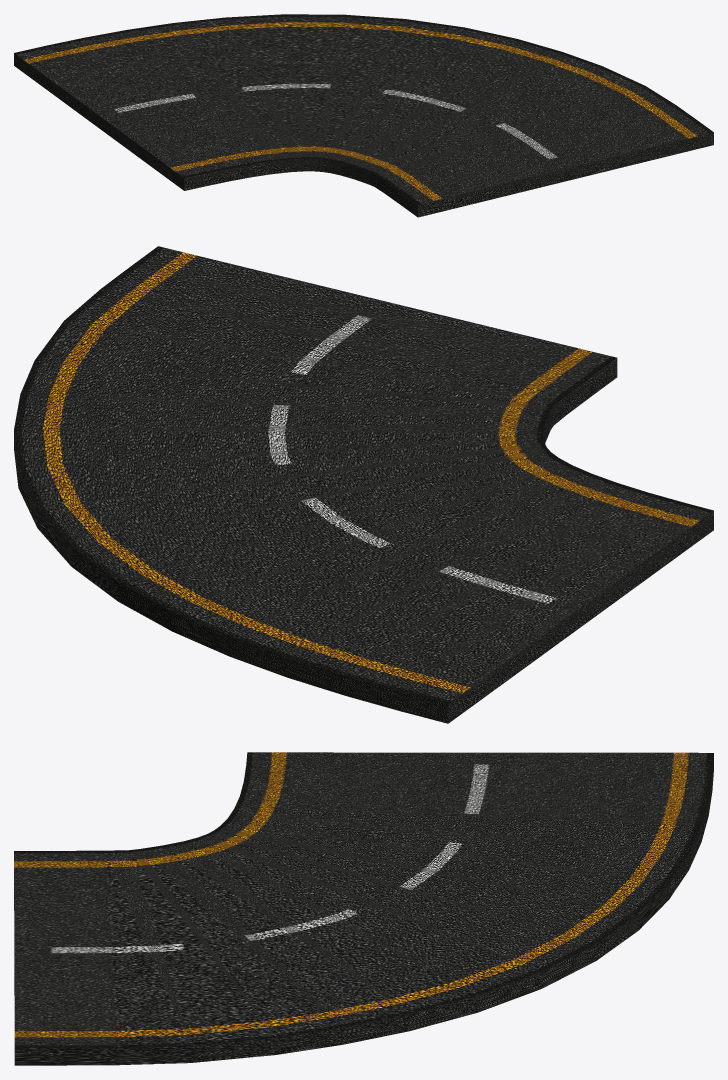
The model's file is roadCurved.fbx.
The picture shows the model from 3 angles, top to bottom: view 1: azimuth 30°, elevation 25°; view 2: azimuth 150°, elevation 25°; view 3: azimuth 270°, elevation 25°; orthographic projection. The views are drawn at different scales.
Parts seen in each view (by area): view 1: curvedRoad90; view 2: curvedRoad90; view 3: curvedRoad90.
Boxes of the visible parts, left/top/right/bottom form: curvedRoad90: left=14, top=14, right=713, bottom=217; curvedRoad90: left=14, top=246, right=713, bottom=723; curvedRoad90: left=14, top=752, right=713, bottom=1065.
Size of the model in its own units: 450 by 12.34 by 450.
1 material, 1 textured.
